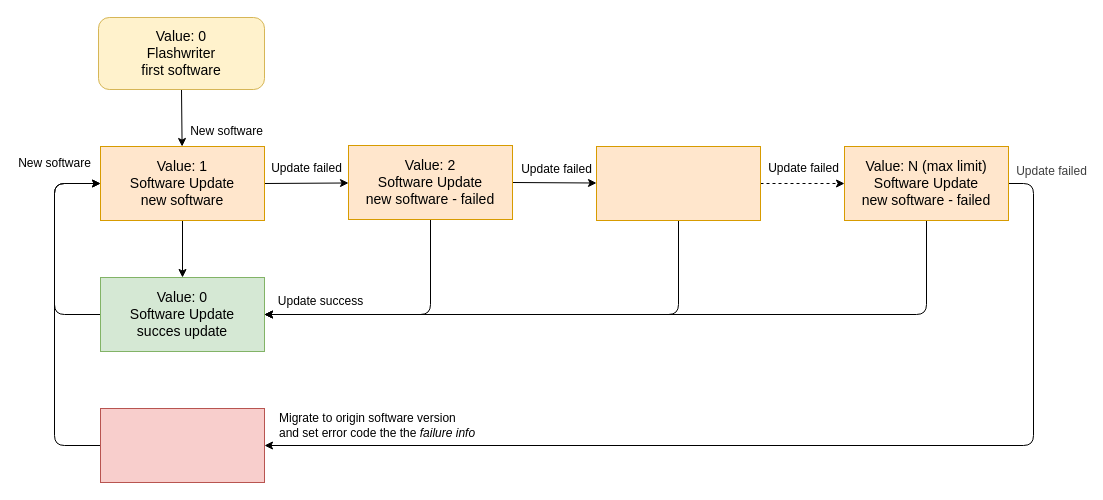
This 1103x500 diagram has some shape labels left out. Each missing label, with the centre of its shape:
Value: 0 Software Update failure update: (x=182, y=445)
Value: 3 Software Update new software - failed: (x=678, y=183)
